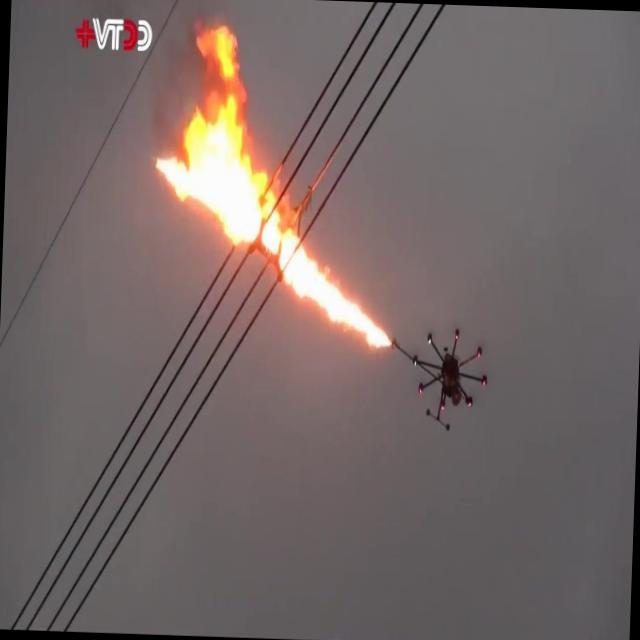drone: (407, 320, 490, 434)
